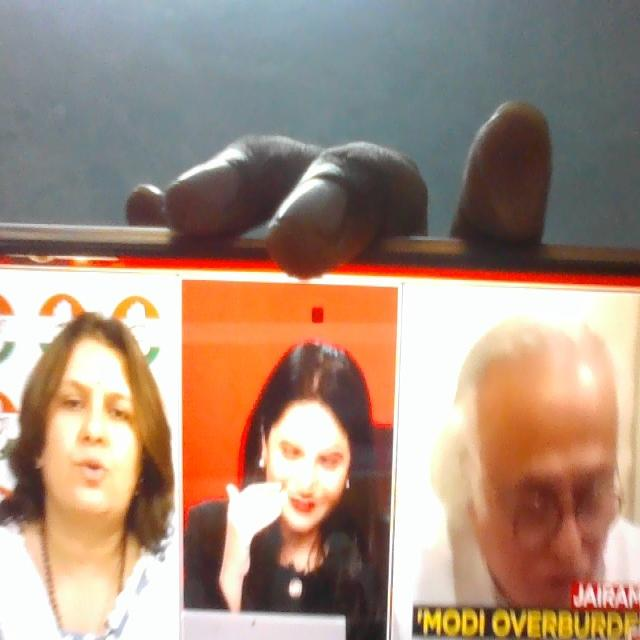fake: (29, 296, 153, 531)
